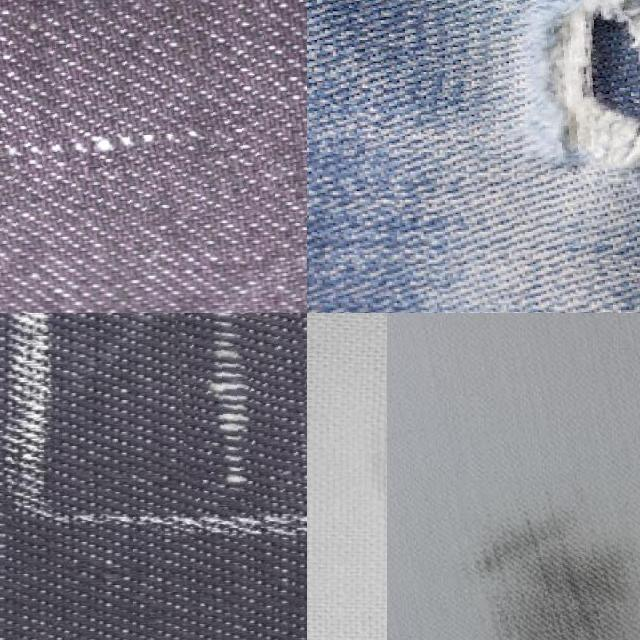Thread_other: (420, 468, 640, 640)
other: (532, 0, 640, 169)
stains: (176, 313, 307, 505)
